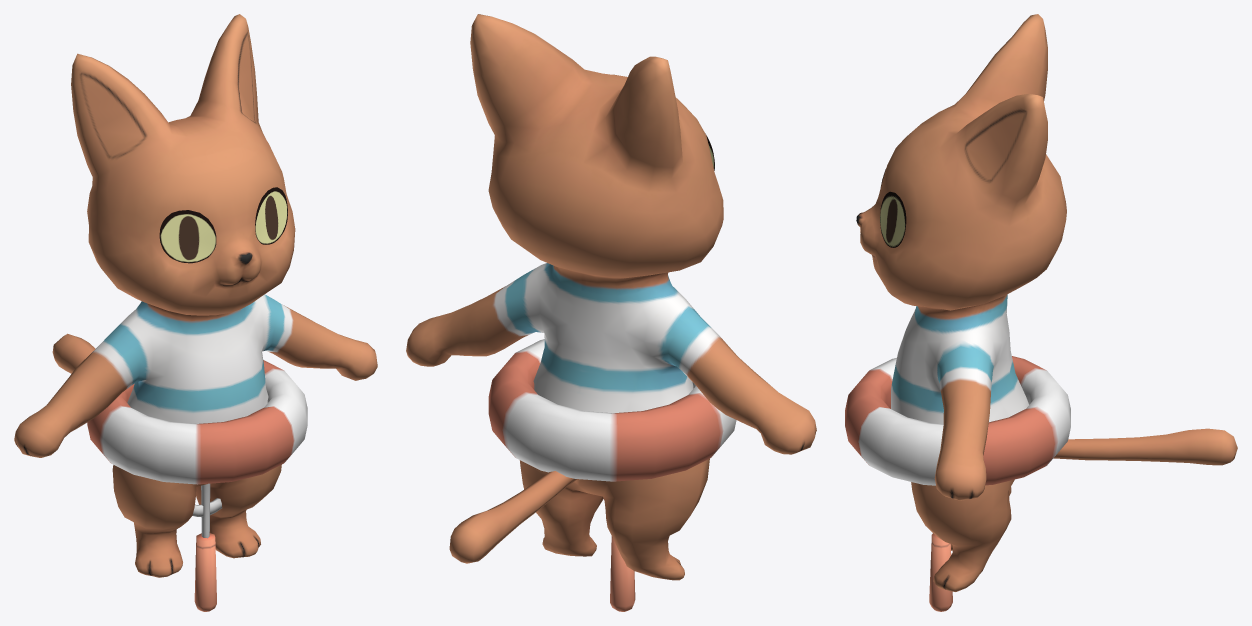
The model's file is Clam_Raker.fbx.
3 views of the same model, side by side, from view 1: azimuth 30°, elevation 25°; view 2: azimuth 150°, elevation 25°; view 3: azimuth 270°, elevation 25° (orthographic). The views are drawn at different scales.
Visible parts, largest first — view 1: Clam_Raker, Clam_Raker_Eye, Clam_Raker_Rake; view 2: Clam_Raker, Clam_Raker_Rake; view 3: Clam_Raker, Clam_Raker_Eye, Clam_Raker_Rake.
Part boxes in pixels (<box>): Clam_Raker: <box>14,14,377,577</box>; Clam_Raker_Eye: <box>159,187,287,263</box>; Clam_Raker_Rake: <box>192,483,222,611</box>; Clam_Raker: <box>406,14,816,580</box>; Clam_Raker_Rake: <box>610,536,635,611</box>; Clam_Raker: <box>845,14,1237,591</box>; Clam_Raker_Eye: <box>880,169,906,247</box>; Clam_Raker_Rake: <box>929,533,952,611</box>.
Bounding box in the file's own units: 171 × 248 × 159.
Materials: 2 (2 with a texture image).
